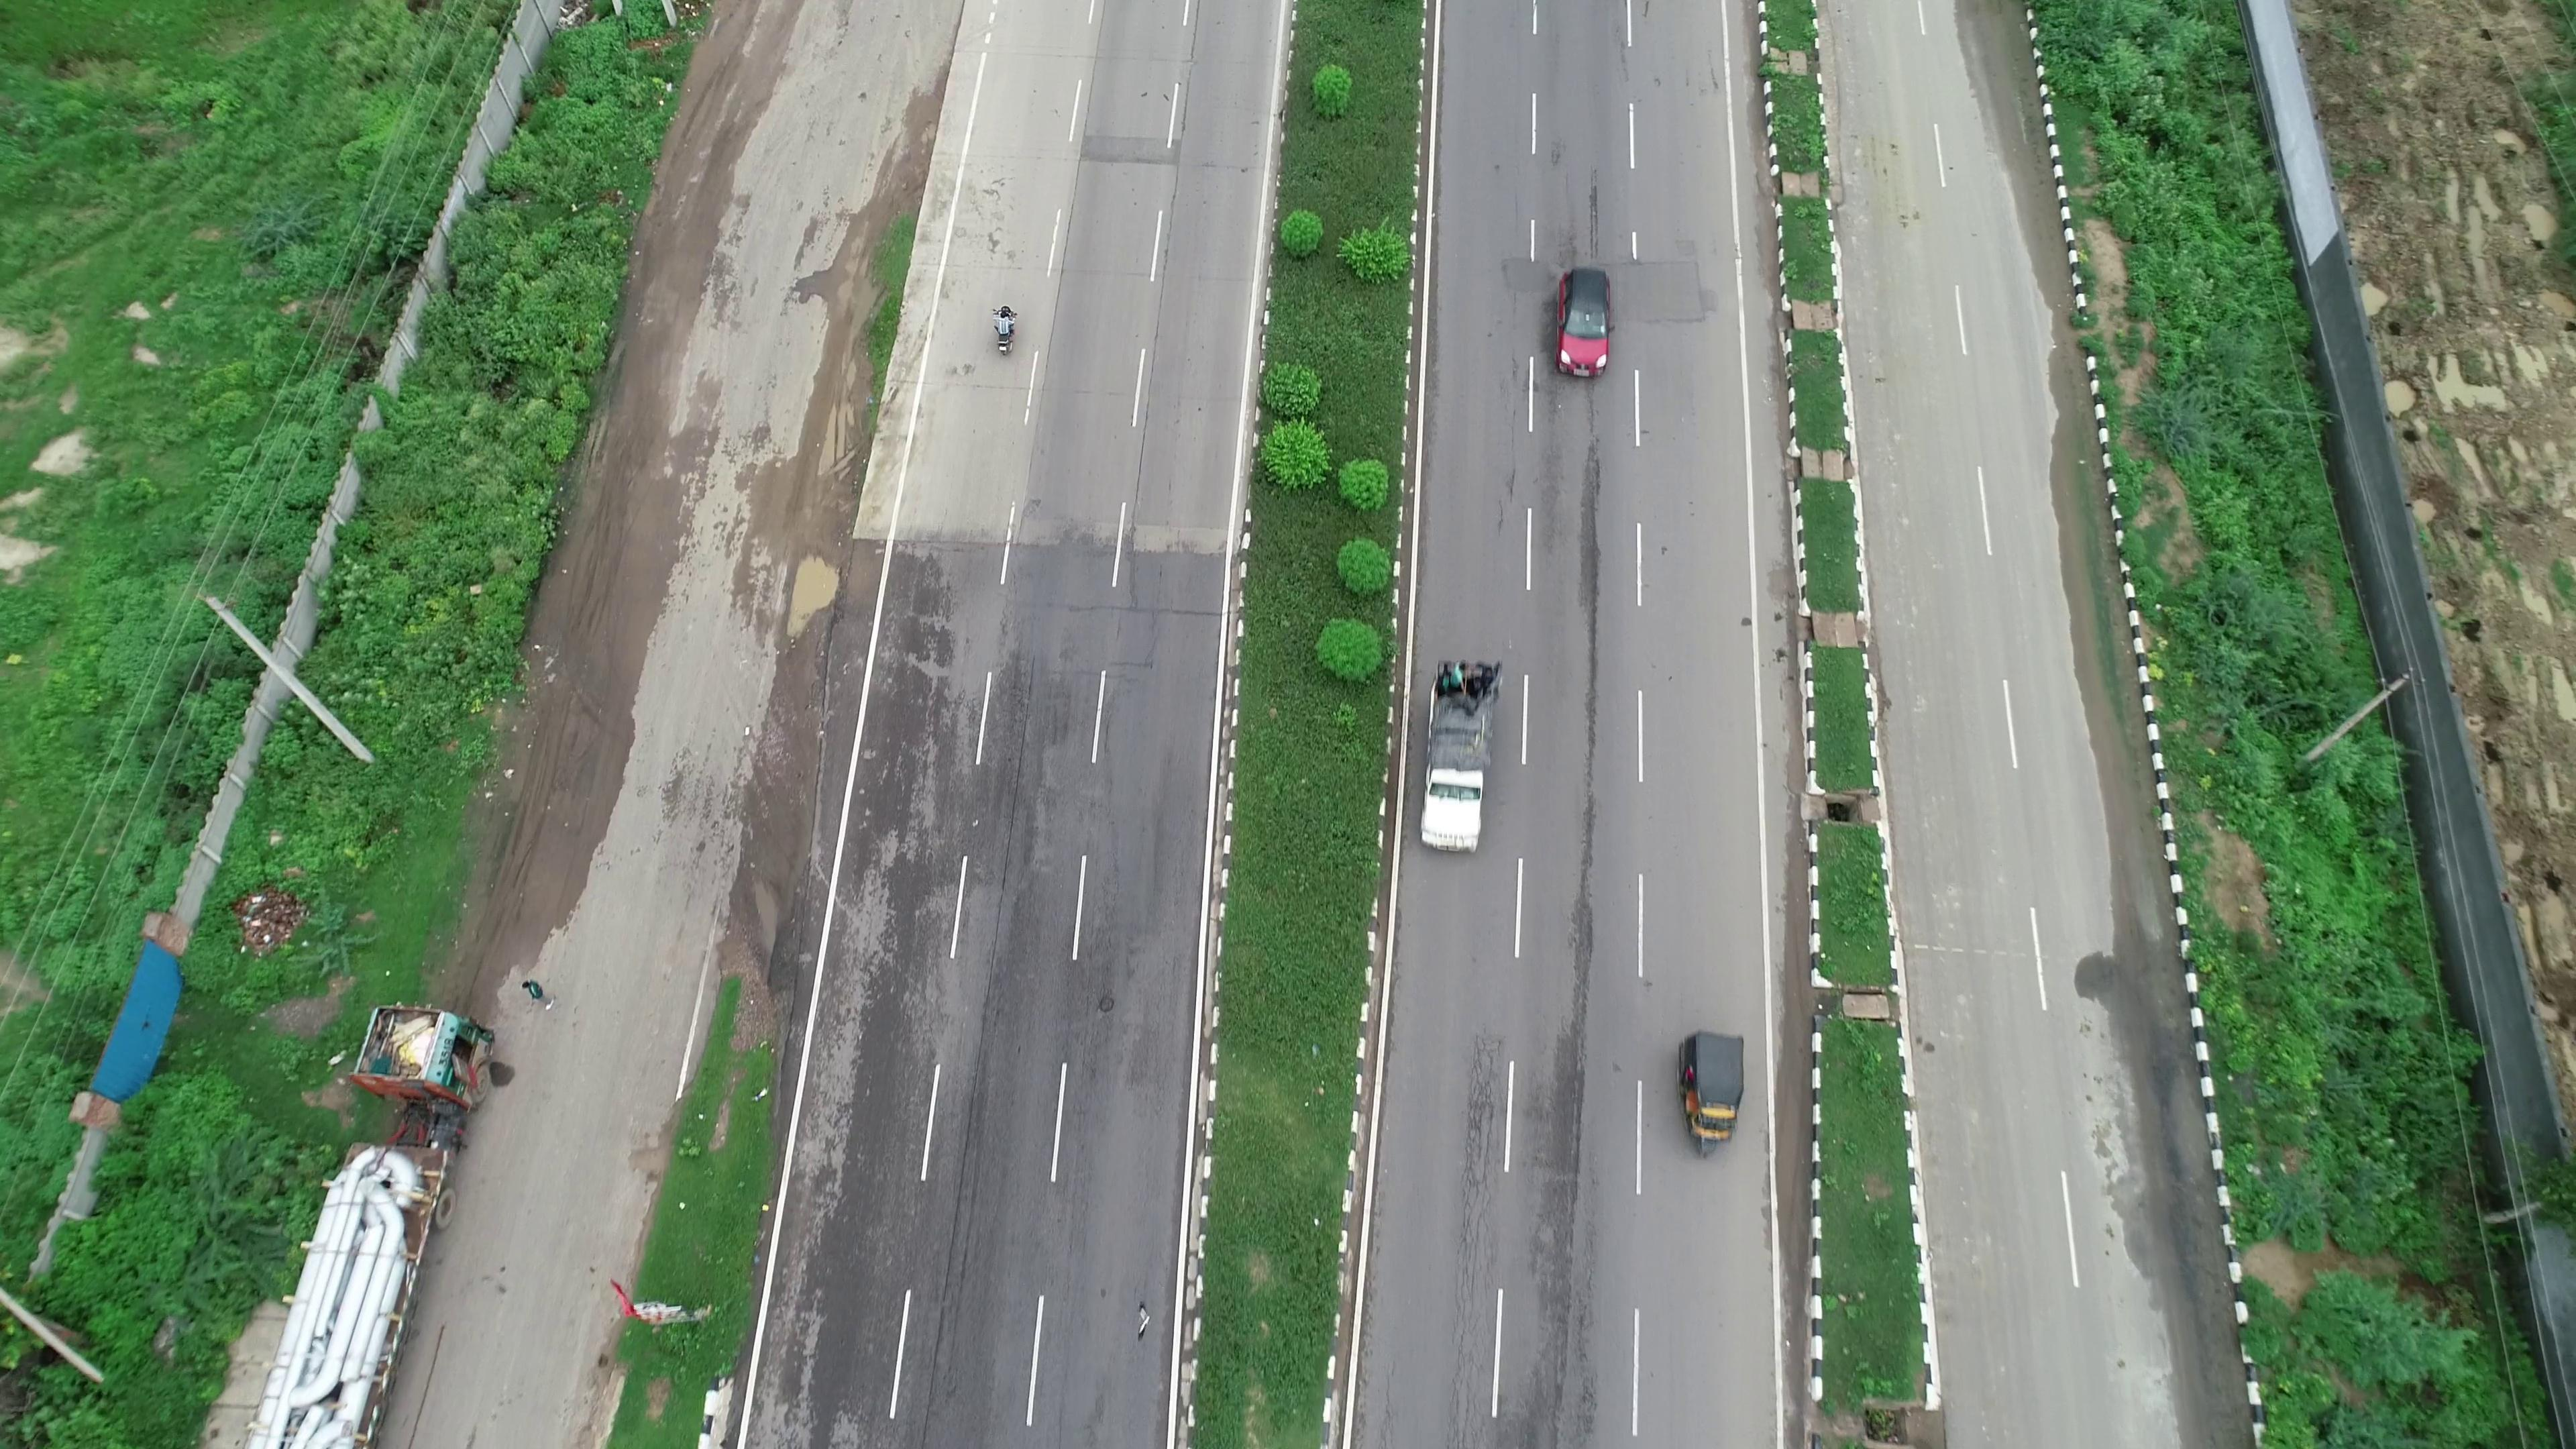Alligator_cracks: (1433, 1024, 1511, 1421)
Ravelling: (1525, 922, 1614, 1426), (1545, 460, 1608, 881)
